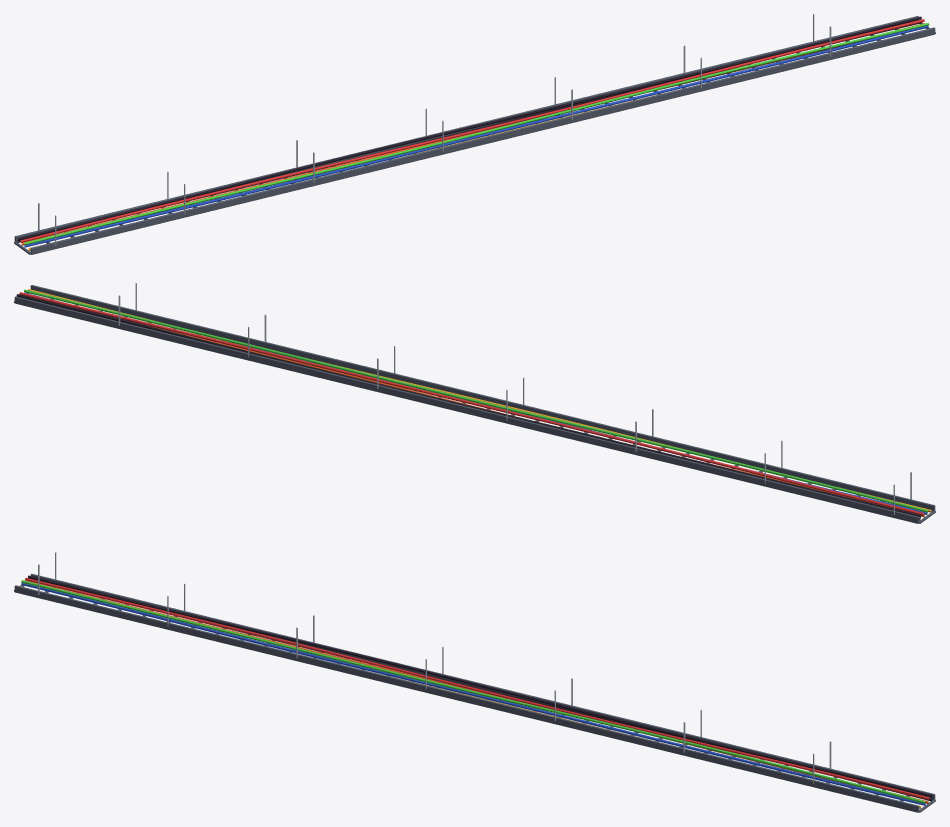
File: mc_cable_tray__000.glb
3 views of the same model, one above another, from view 1: azimuth 30°, elevation 25°; view 2: azimuth 150°, elevation 25°; view 3: azimuth 330°, elevation 25° (orthographic).
Visible parts, largest first — view 1: merged_toon_ffffff_1, merged_toon_ffffff, merged_toon_A8B0BA; view 2: merged_toon_ffffff, merged_toon_ffffff_1, merged_toon_A8B0BA; view 3: merged_toon_ffffff_1, merged_toon_ffffff, merged_toon_A8B0BA.
Boxes of the visible parts, left/top/right/bottom form: merged_toon_ffffff_1: left=17, top=16, right=929, bottom=250; merged_toon_ffffff: left=14, top=16, right=935, bottom=254; merged_toon_A8B0BA: left=38, top=14, right=831, bottom=245; merged_toon_ffffff: left=14, top=285, right=935, bottom=523; merged_toon_ffffff_1: left=16, top=289, right=931, bottom=520; merged_toon_A8B0BA: left=118, top=283, right=911, bottom=514; merged_toon_ffffff_1: left=18, top=575, right=932, bottom=808; merged_toon_ffffff: left=14, top=573, right=935, bottom=812; merged_toon_A8B0BA: left=38, top=552, right=831, bottom=784.
Bounding box in the file's own units: 11.23 × 0.4 × 0.376.
